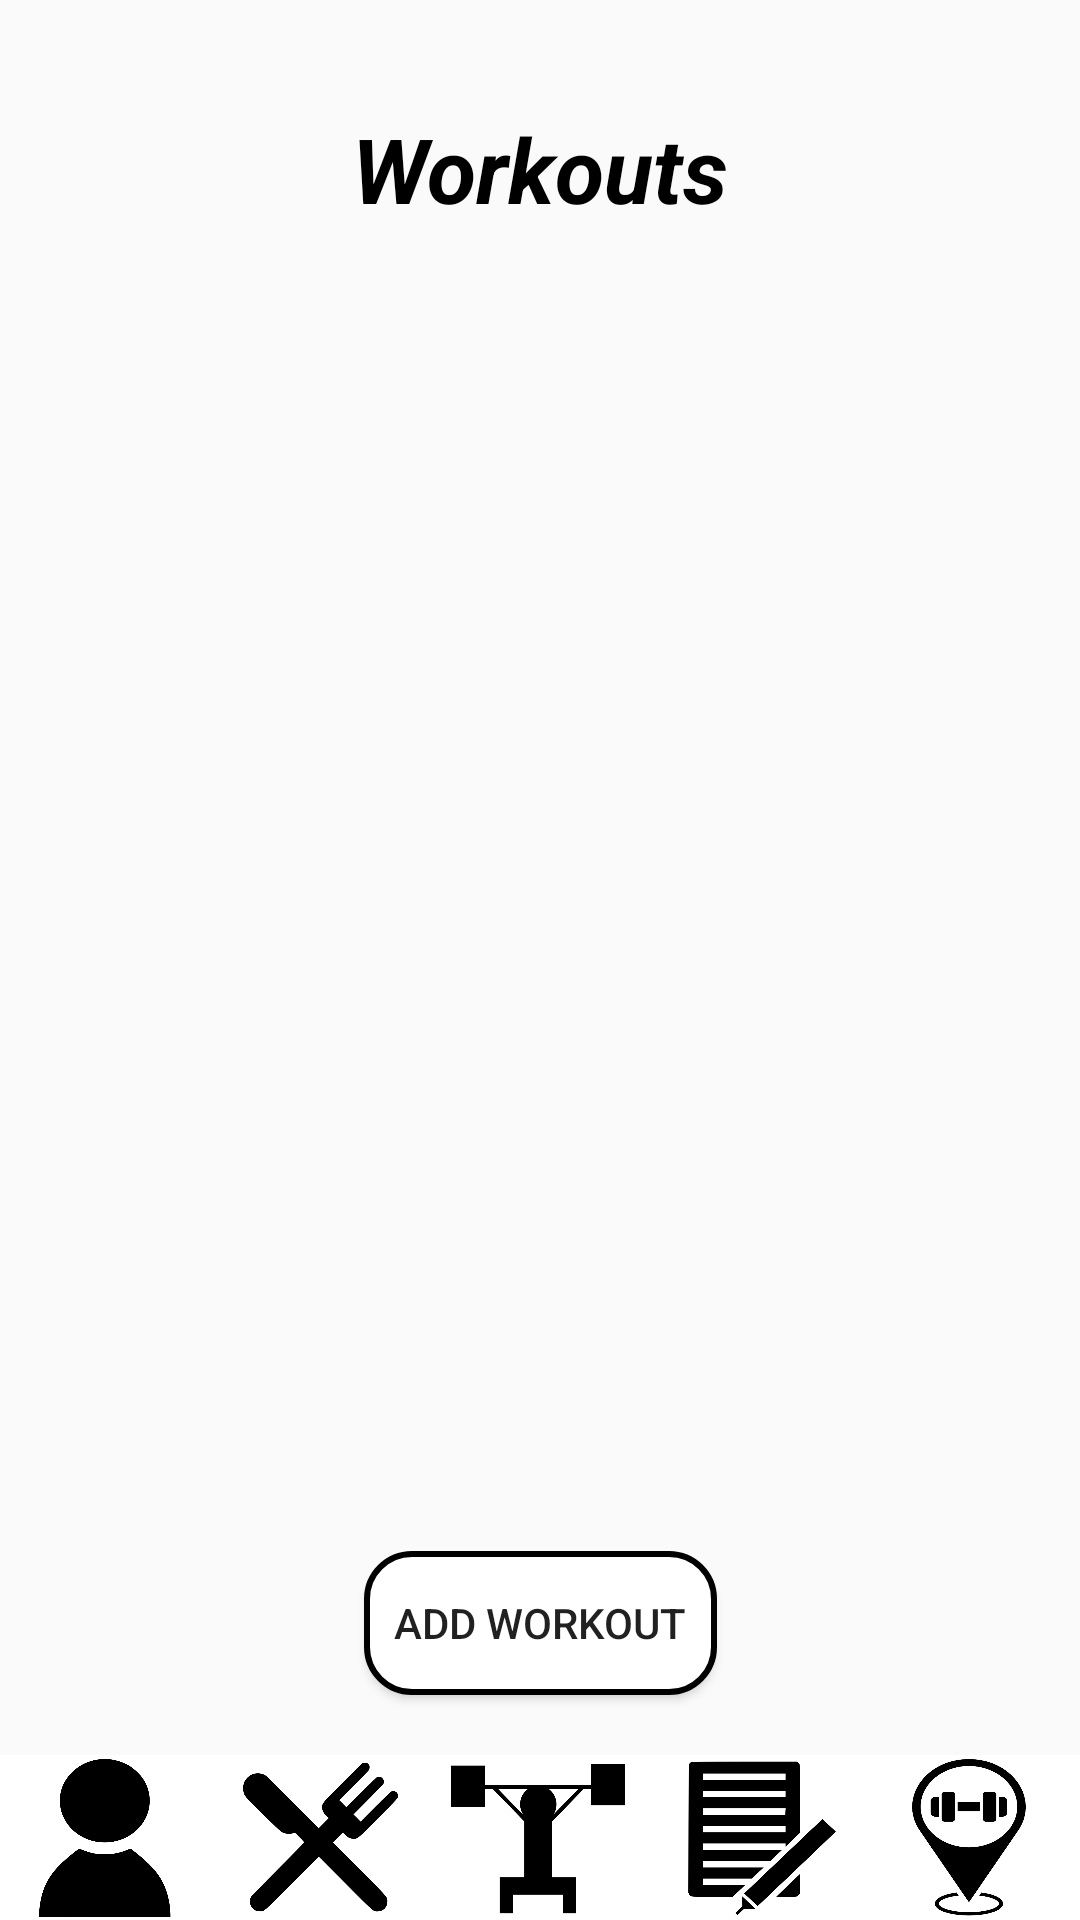

Icons on this 1080*1920 Android screen, each with its box as (x1, y1, x2, y2):
exercise: (451, 1764, 625, 1914)
food: (243, 1763, 398, 1912)
map: (912, 1759, 1026, 1916)
notes: (688, 1761, 836, 1915)
profile: (39, 1759, 171, 1917)
